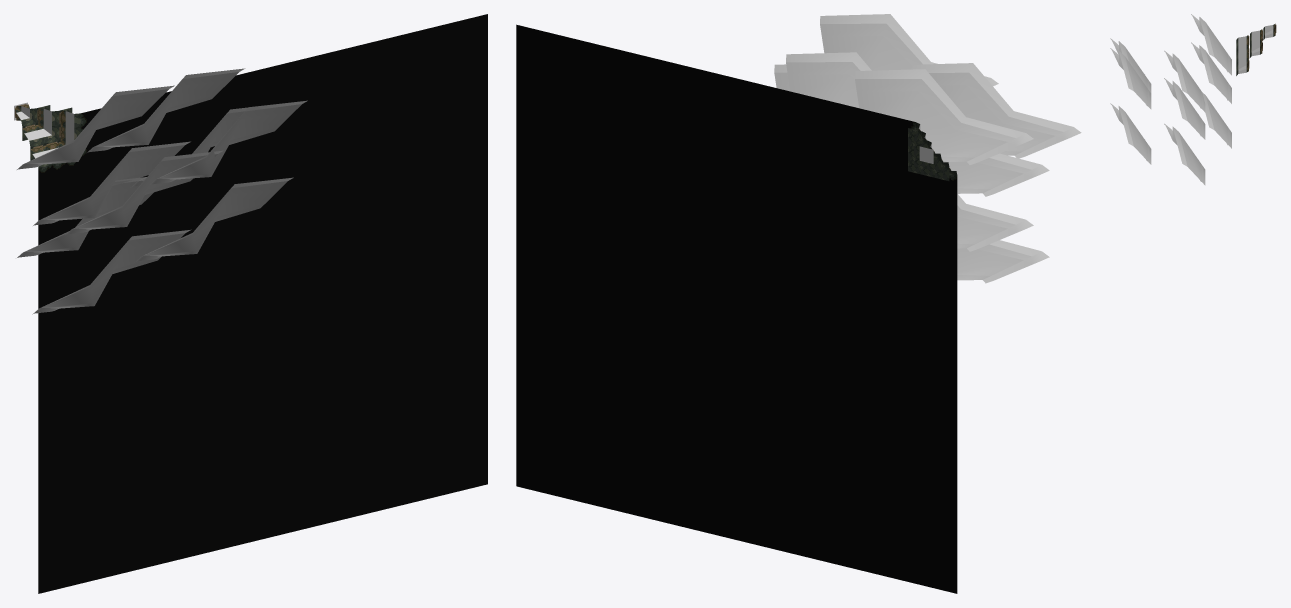
Rendered from Victory-Road-3_05_05.obj.
The picture shows the model from 3 angles, left to right: view 1: azimuth 30°, elevation 25°; view 2: azimuth 150°, elevation 25°; view 3: azimuth 270°, elevation 25°; orthographic projection. The views are drawn at different scales.
Visible parts, largest first — view 1: map; view 2: map; view 3: map.
Part boxes in pixels (box(x1,y1,x2,y2)): map: box(14, 14, 487, 593); map: box(516, 14, 1081, 593); map: box(1110, 14, 1276, 185).
Bounding box in the file's own units: 35.59 × 34.34 × 12.4.
